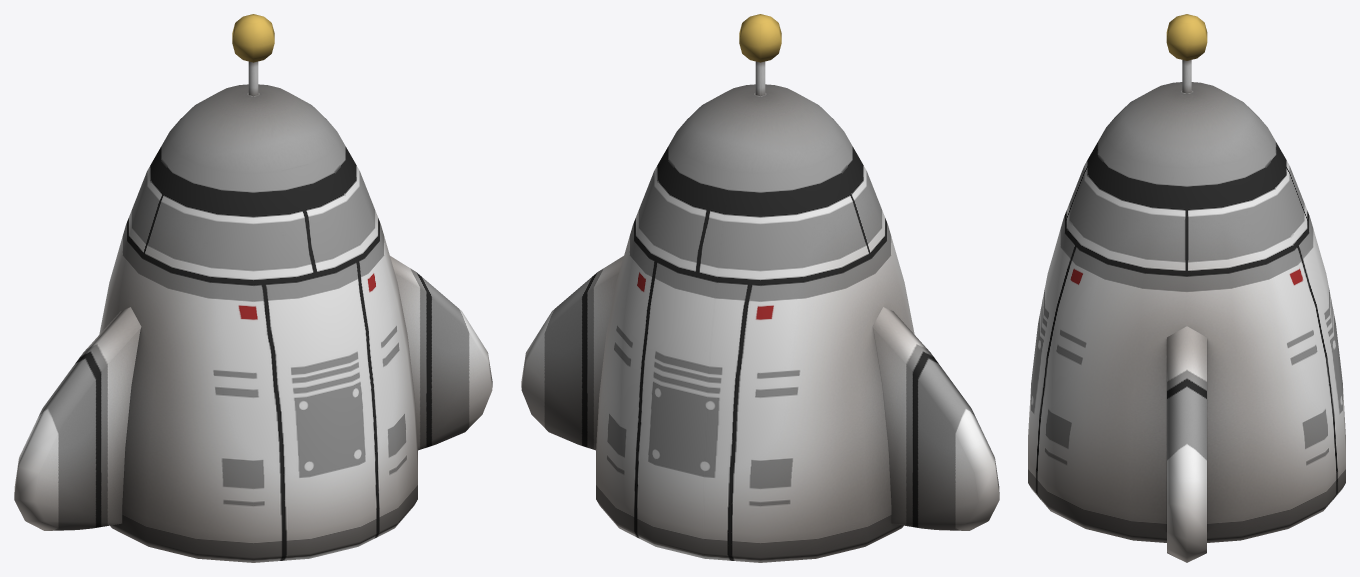
3 views of the same model, side by side, from view 1: azimuth 30°, elevation 25°; view 2: azimuth 150°, elevation 25°; view 3: azimuth 270°, elevation 25° (orthographic). The views are drawn at different scales.
Visible parts, largest first — view 1: S010; view 2: S010; view 3: S010.
Part boxes in pixels (<box>): S010: <box>14,14,492,562</box>; S010: <box>521,14,999,562</box>; S010: <box>1028,14,1345,562</box>.
Size of the model in its own units: 39.28 by 38.72 by 23.38.
Materials: 1 (1 with a texture image).
